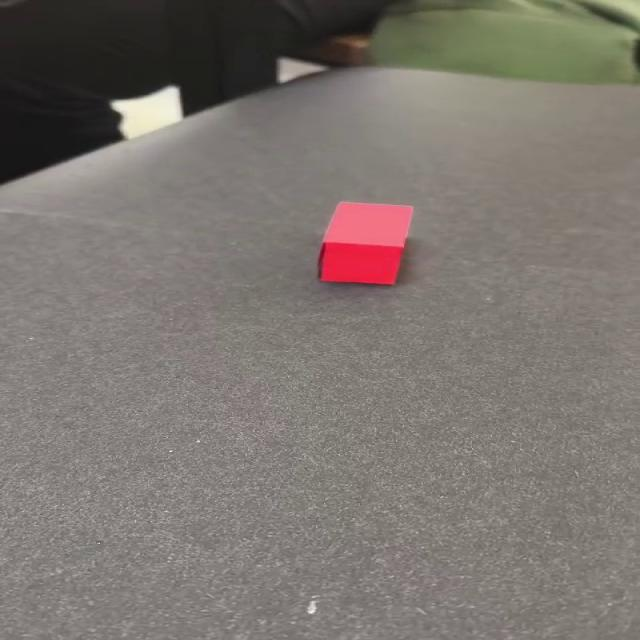red block: (316, 201, 413, 285)
